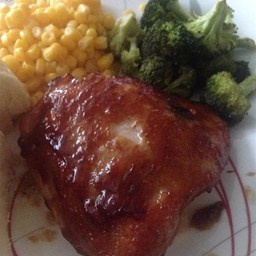background: (0, 0, 102, 102)
